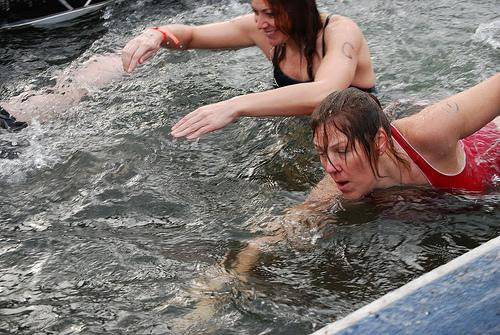swimmer: (237, 63, 500, 280), (122, 1, 376, 140)
